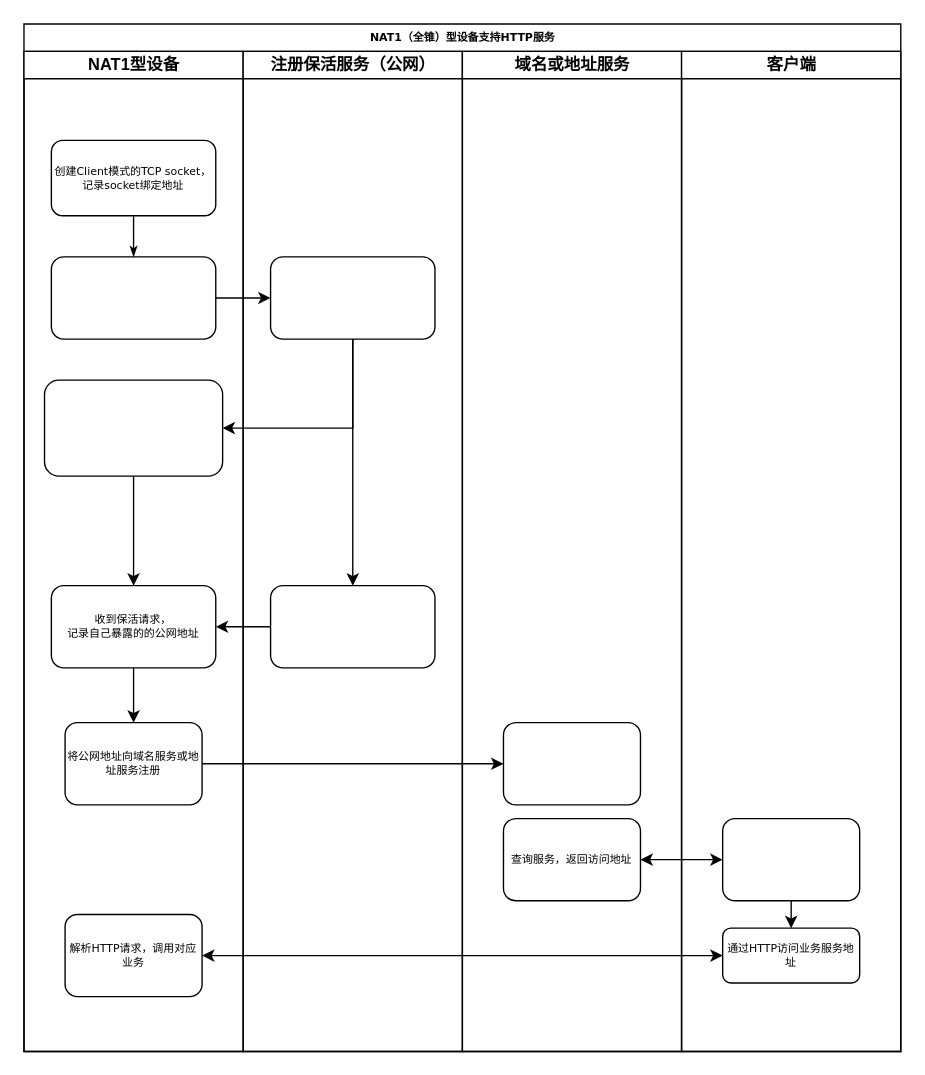
The diagram is 925 pixels wide and 1075 high, and some of its shapes have lost their labels. Each missing label, with the centre of its shape:
回应注册成功， 记录对方暴露的公网地址: [352,297]
定时循环向对方公网地址发送保活请求， 并携带公网地址信息: [352,626]
查询NAT1设备上的业务服务地址: [790,859]
注册成功，关闭Client模式的TCP socket， 在原端口启动Server模式的TCP socket: [133,427]
记录服务与地址的对应信息: [571,763]
通过TCP socket 向公网发送注册请求: [133,297]
